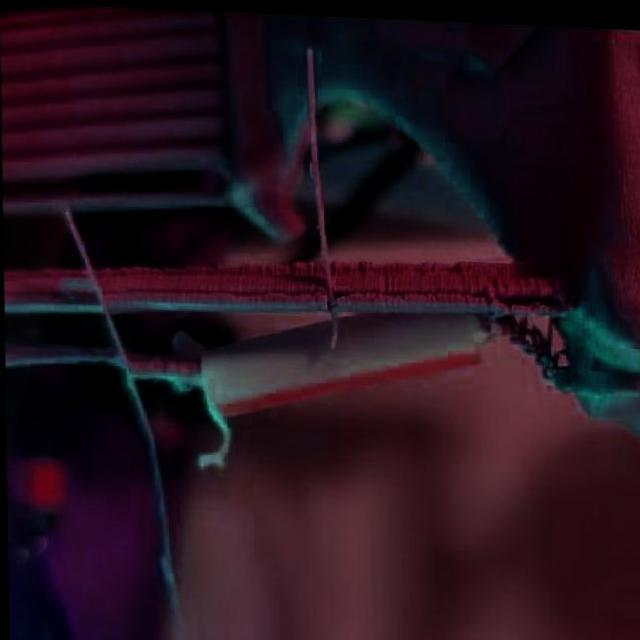spaghetti: (302, 42, 339, 344), (502, 305, 572, 378)
